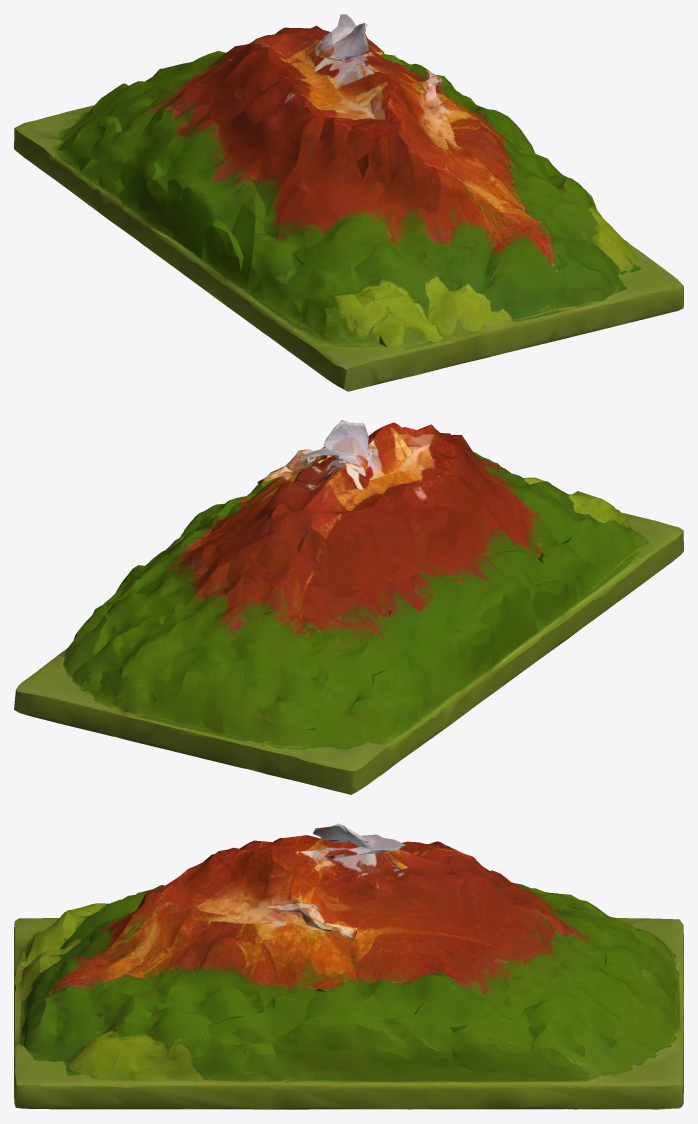
File: showa-shinzan.glb
3 views of the same model, one above another, from view 1: azimuth 30°, elevation 25°; view 2: azimuth 150°, elevation 25°; view 3: azimuth 270°, elevation 25° (orthographic).
Visible parts, largest first — view 1: logan-textured.obj; view 2: logan-textured.obj; view 3: logan-textured.obj.
Boxes of the visible parts, <box> form: logan-textured.obj: <box>14,14,683,391</box>; logan-textured.obj: <box>14,420,683,794</box>; logan-textured.obj: <box>14,823,683,1109</box>.
Size of the model in its own units: 0.5985 by 0.3437 by 1.
Materials: 1 (1 with a texture image).
